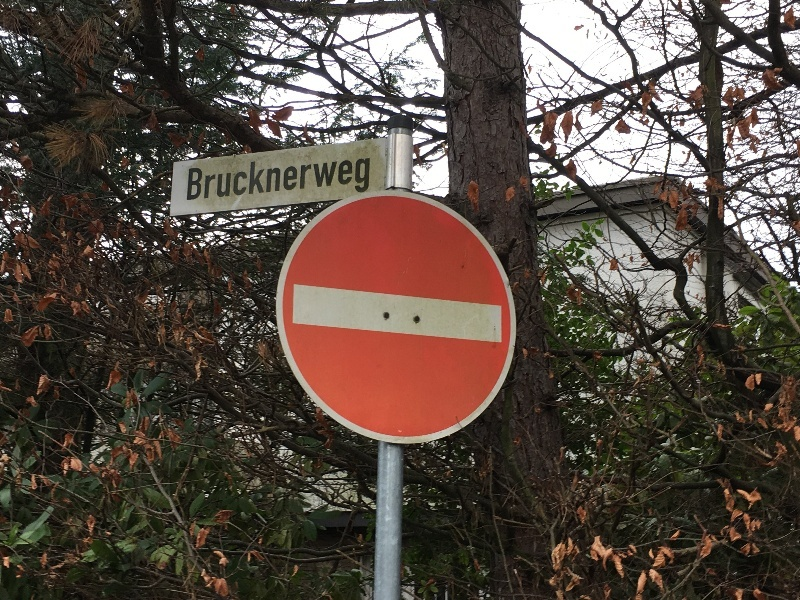text: (193, 156, 208, 202), (209, 156, 224, 202), (225, 156, 240, 202), (241, 156, 256, 202), (257, 156, 272, 202), (273, 156, 288, 202), (289, 156, 304, 202), (305, 156, 320, 202), (321, 156, 336, 202), (337, 156, 352, 202), (353, 156, 368, 202), (189, 156, 192, 202), (369, 156, 371, 202)
